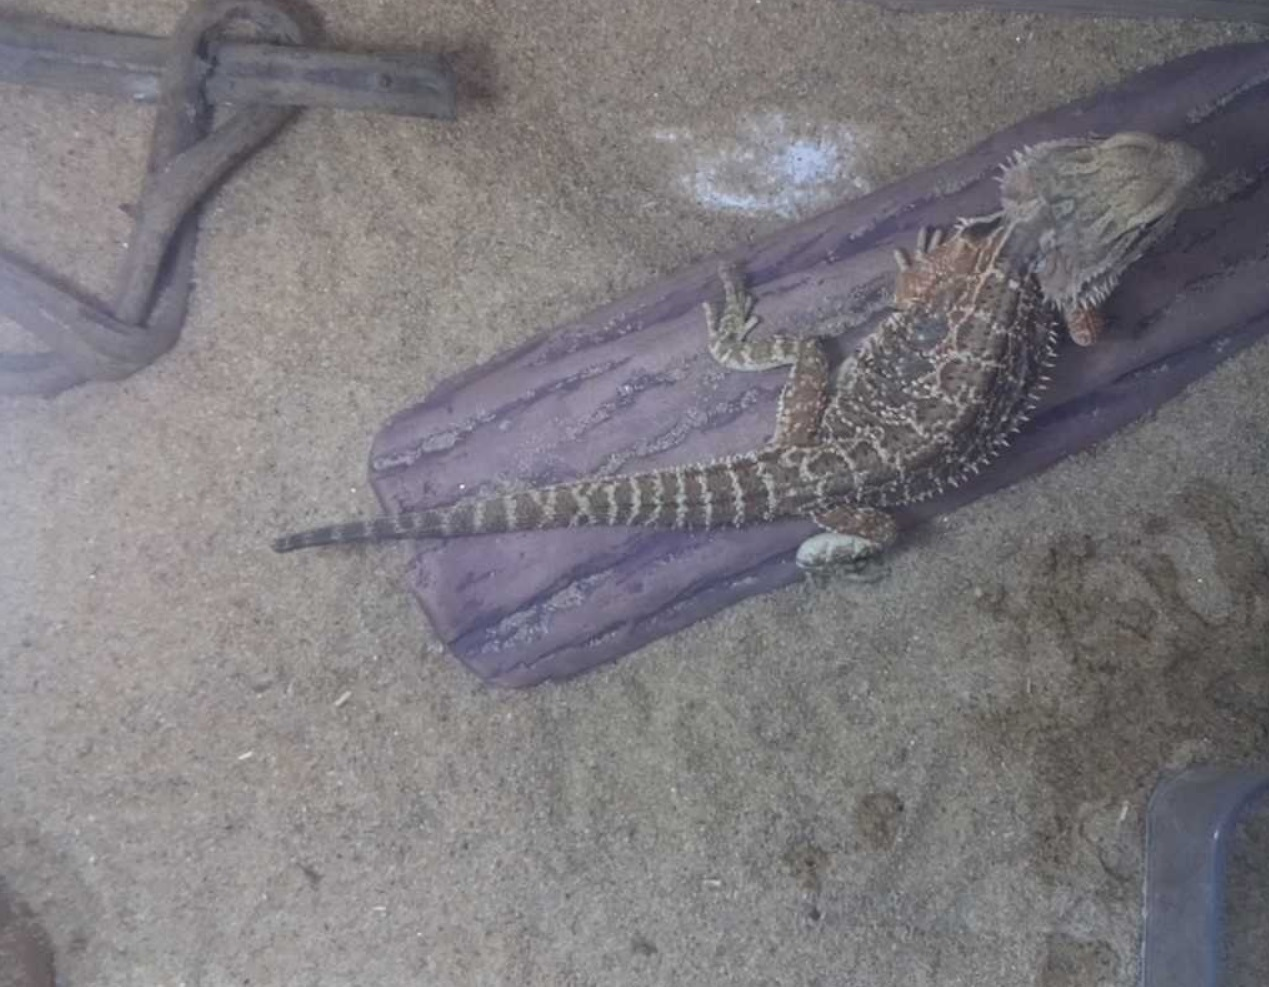bearded: (271, 125, 1213, 598)
